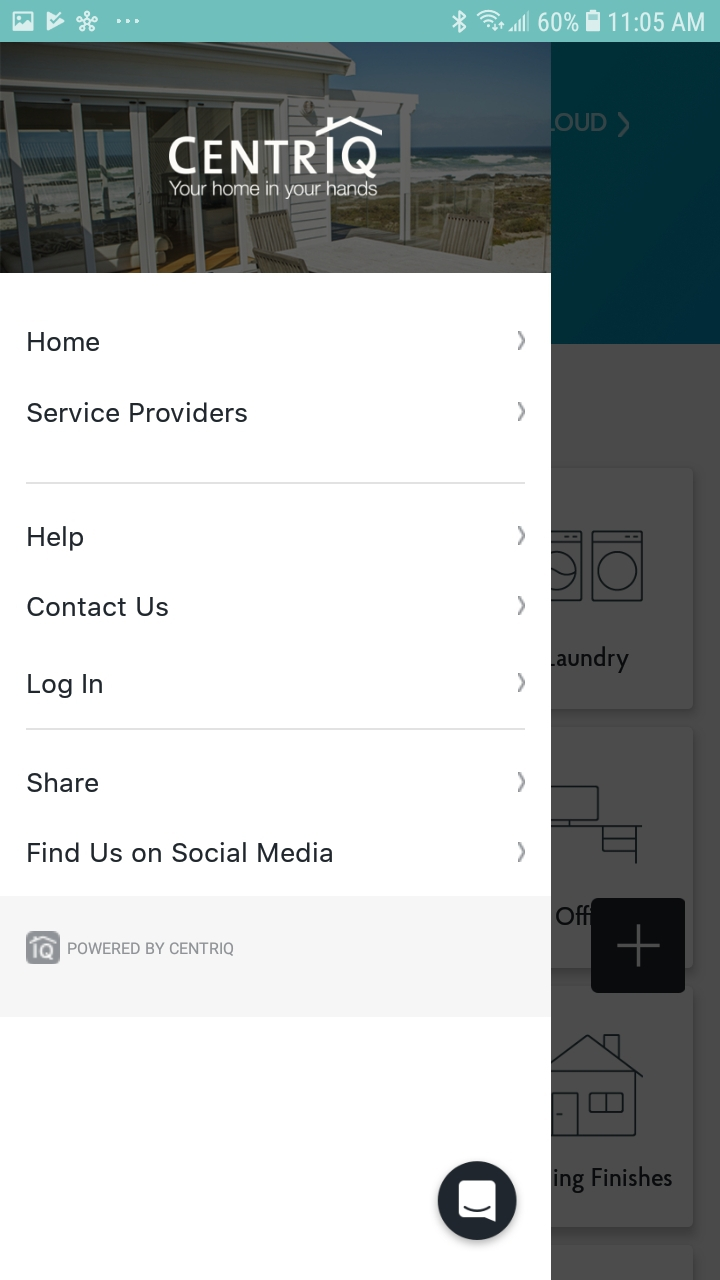Drawer: (1, 43, 552, 1280)
Icon: (437, 1160, 518, 1241), (516, 596, 526, 617), (517, 841, 526, 863), (517, 525, 526, 546), (517, 672, 526, 693), (517, 402, 526, 422), (518, 771, 526, 793), (518, 331, 526, 351)
Image: (169, 116, 383, 201), (26, 931, 61, 965)
Text: (28, 842, 333, 863), (28, 402, 249, 423), (27, 597, 169, 617), (68, 941, 234, 957), (28, 674, 103, 699), (29, 332, 101, 353), (27, 772, 99, 793), (29, 526, 85, 552)
UpperTaskBar: (1, 1, 720, 43)
